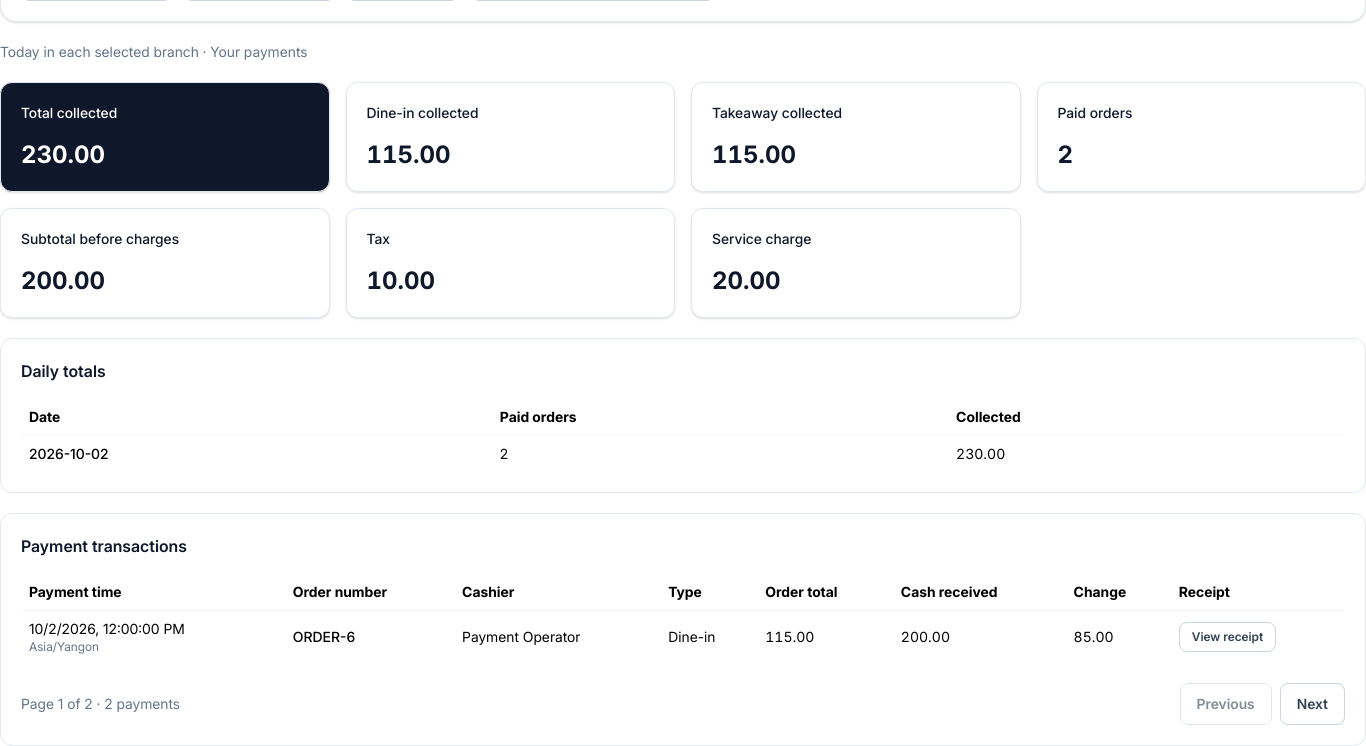
it: payment report › loads receipts through the payment report endpoint and shows payment details
(page scrolled)
Click the button "View receipt" at (1228, 637), box [1179,622,1276,652]
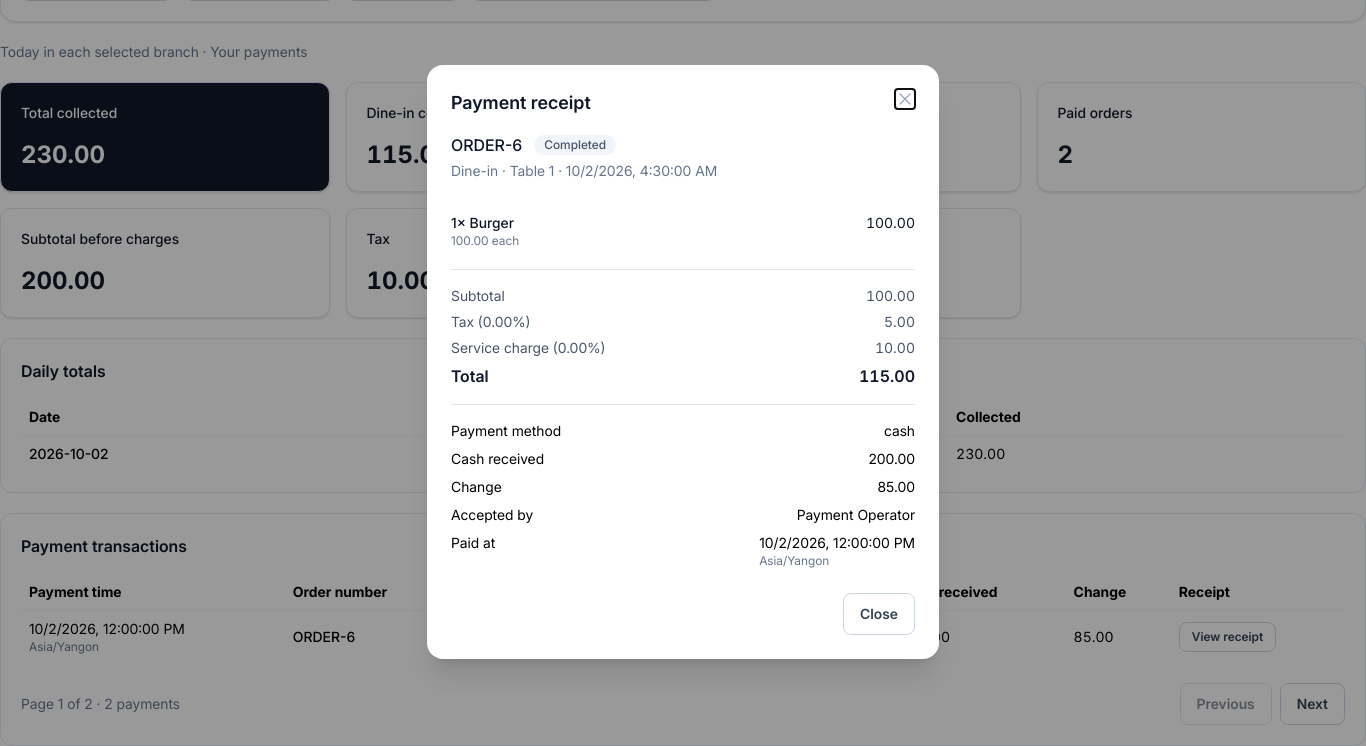
Expected: the text "Cash received" is shown, [893,574,1066,610]
Expected: the text "Burger" is shown, [451,214,514,231]
